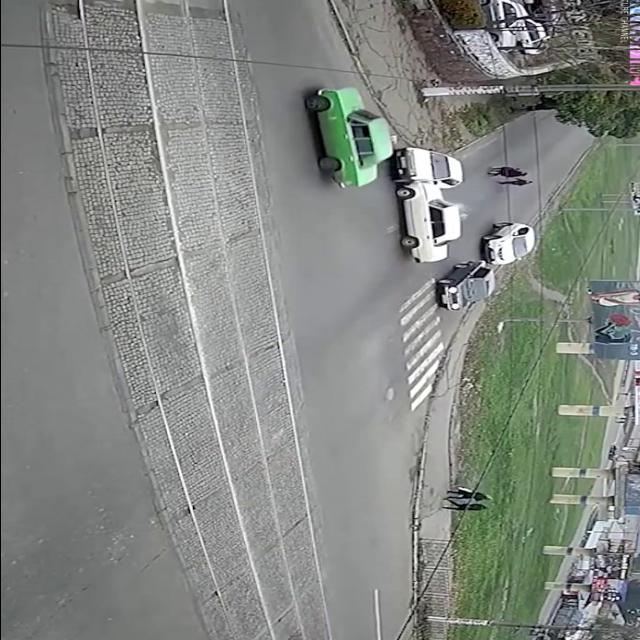accident: (385, 144, 469, 268)
non_accident: (429, 219, 541, 315)
